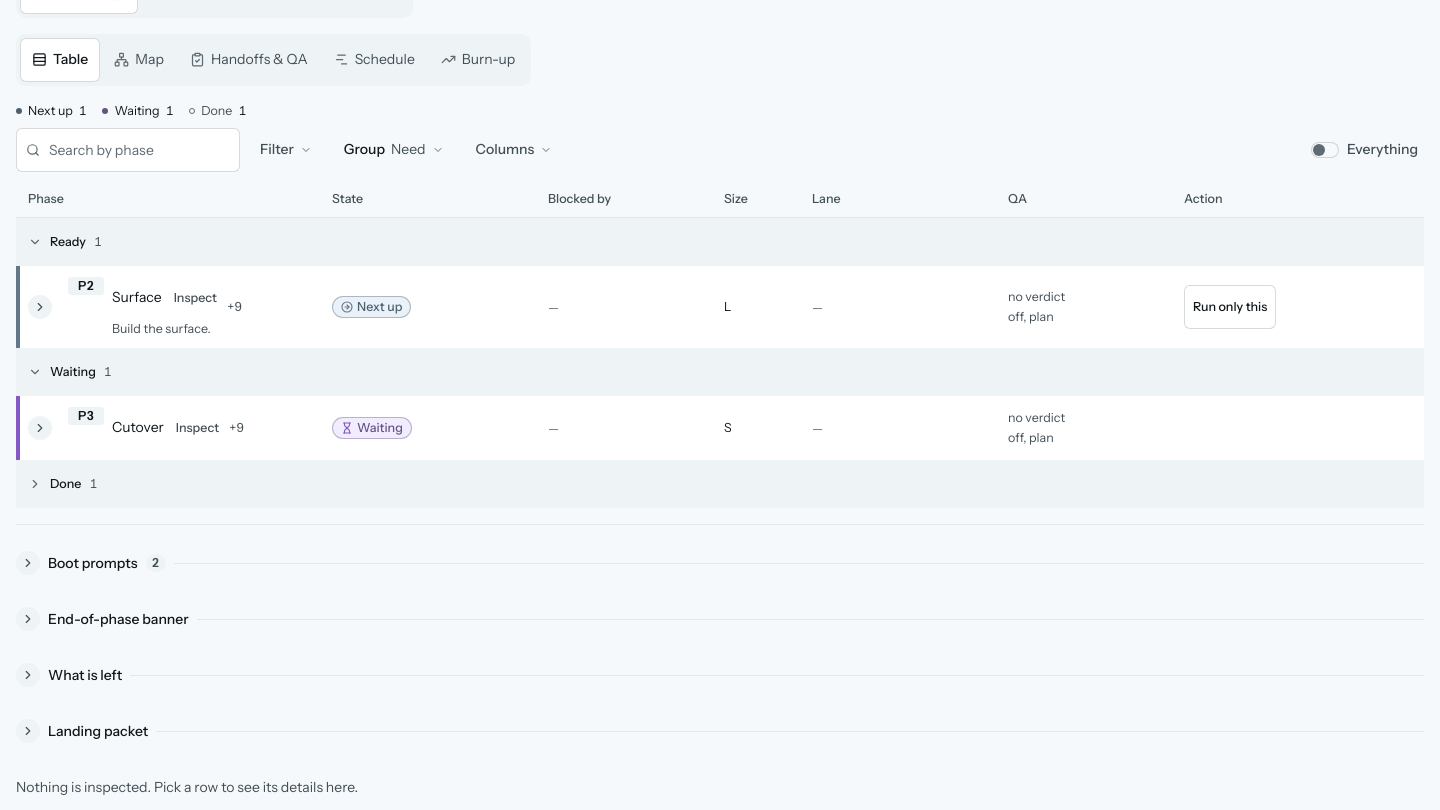
Test: opening a plan spends no engine call › asks for no prompt, no board text, no memory block and no session plan until a fold opens
(page scrolled)
Check: the table named "Phases" is shown, box [16,180,1424,508]
What coordinates should you click on to do the following:
click the button with test id "foot-prompts"
I would click on:
 (93, 563)
Its box is [16,541,1424,585].
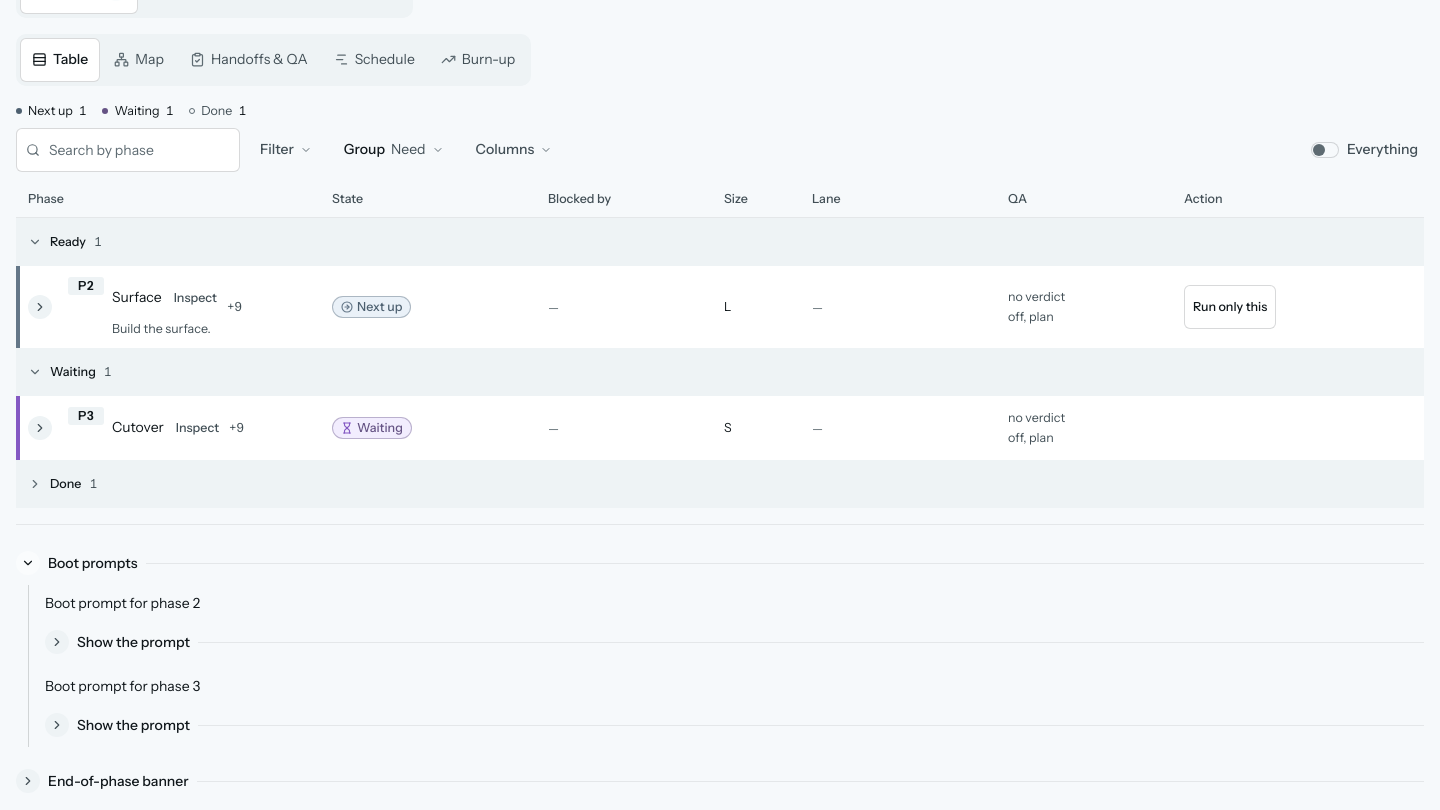
What coordinates should you click on to do the following:
click the button with test id "foot-banner"
I would click on:
 (118, 781)
Its box is [16,759,1424,803].
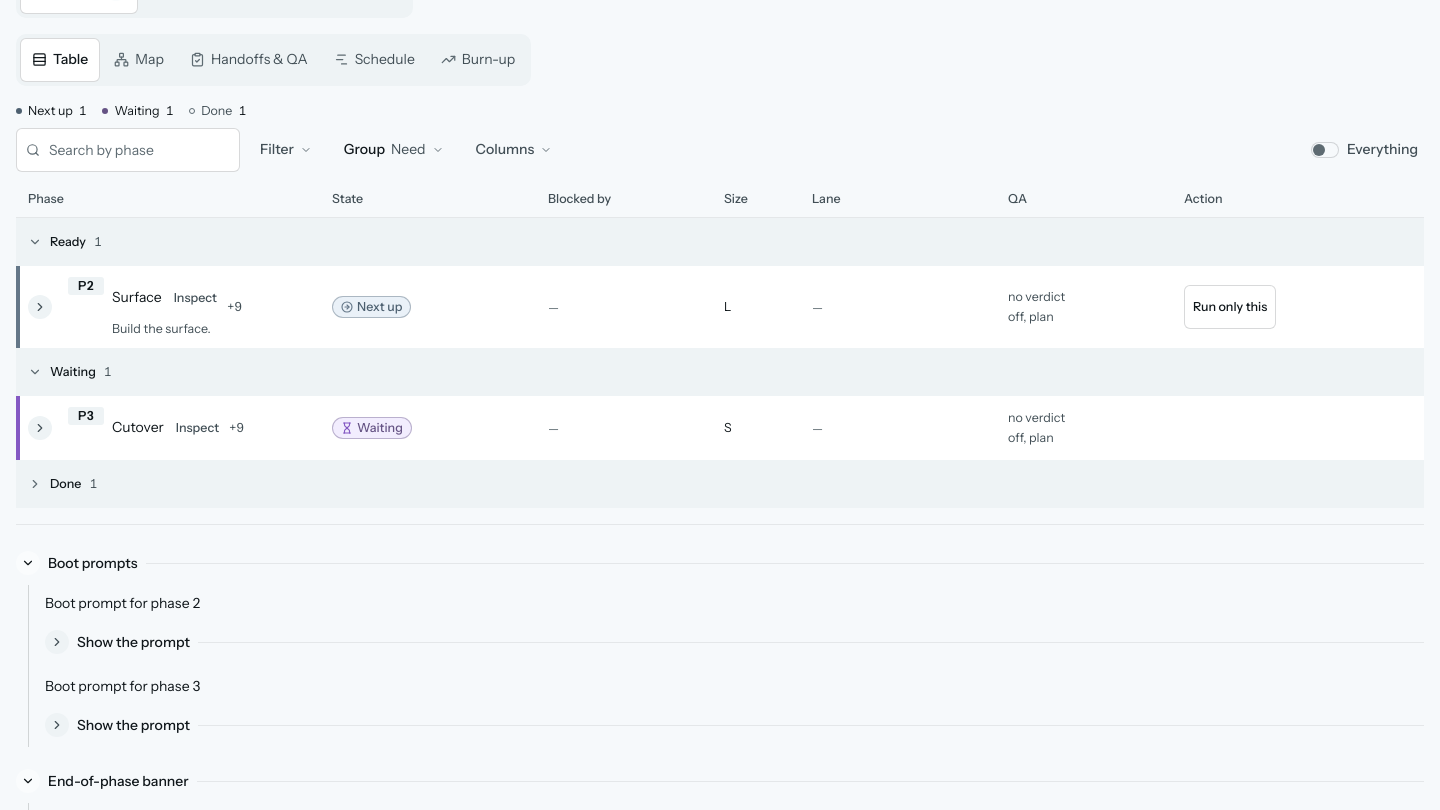
Note: The one opened is the one asked for.
What coordinates should you click on to do the following:
click the button "Show the prompt" below "Boot prompt for phase 3"
I would click on:
 (133, 725)
Its box is [45,703,1424,747].
(page scrolled)
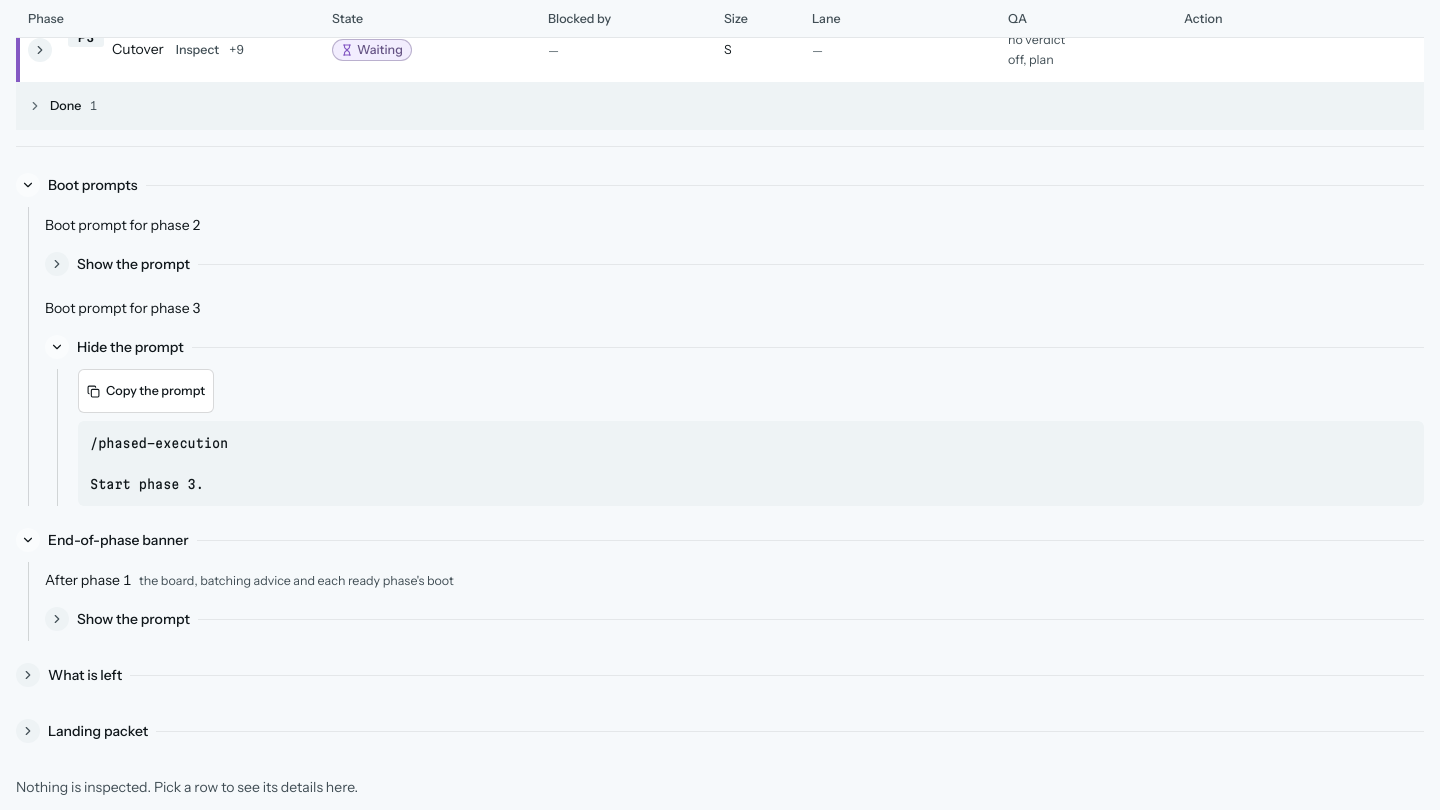
Check: the text "/phased-execution Start phase 3." is shown, box [78,421,1424,506]
